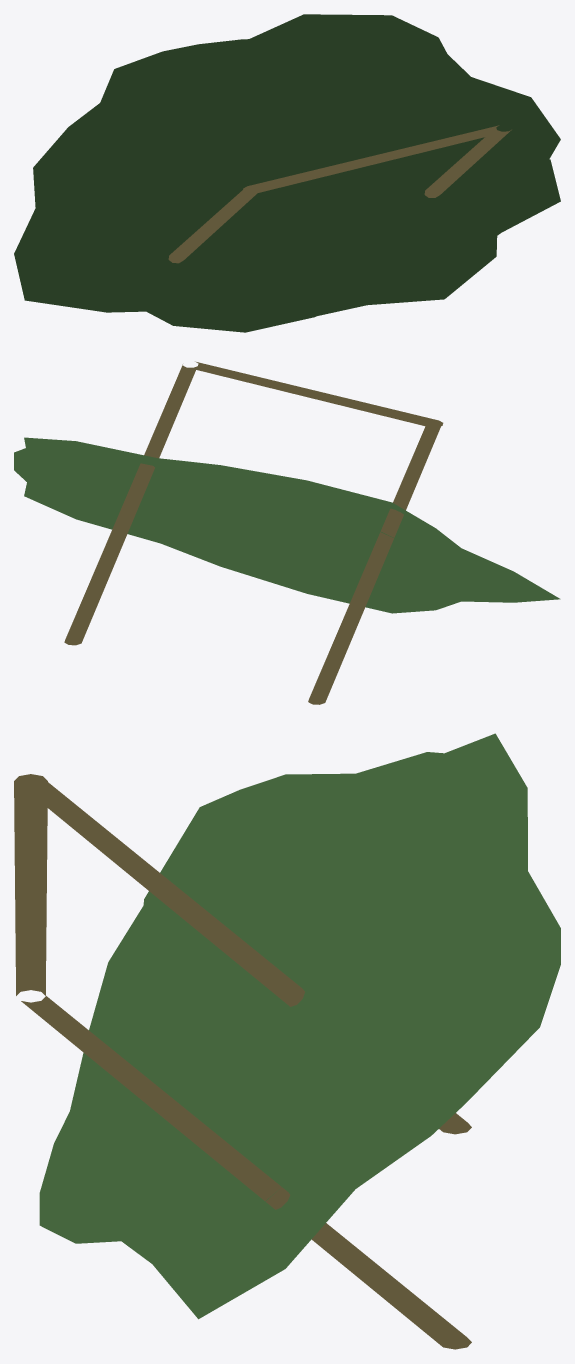
File: survival_shelter.glb
The picture shows the model from 3 angles, top to bottom: view 1: azimuth 30°, elevation 25°; view 2: azimuth 150°, elevation 25°; view 3: azimuth 270°, elevation 25°; orthographic projection. The views are drawn at different scales.
Visible parts, largest first — view 1: SurvivalShelter; view 2: SurvivalShelter; view 3: SurvivalShelter.
Boxes of the visible parts, bbox=[...] form: SurvivalShelter: bbox=[14, 14, 560, 332]; SurvivalShelter: bbox=[14, 361, 560, 704]; SurvivalShelter: bbox=[14, 733, 560, 1349].
Bounding box in the file's own units: 5.13 × 2.07 × 2.58.
